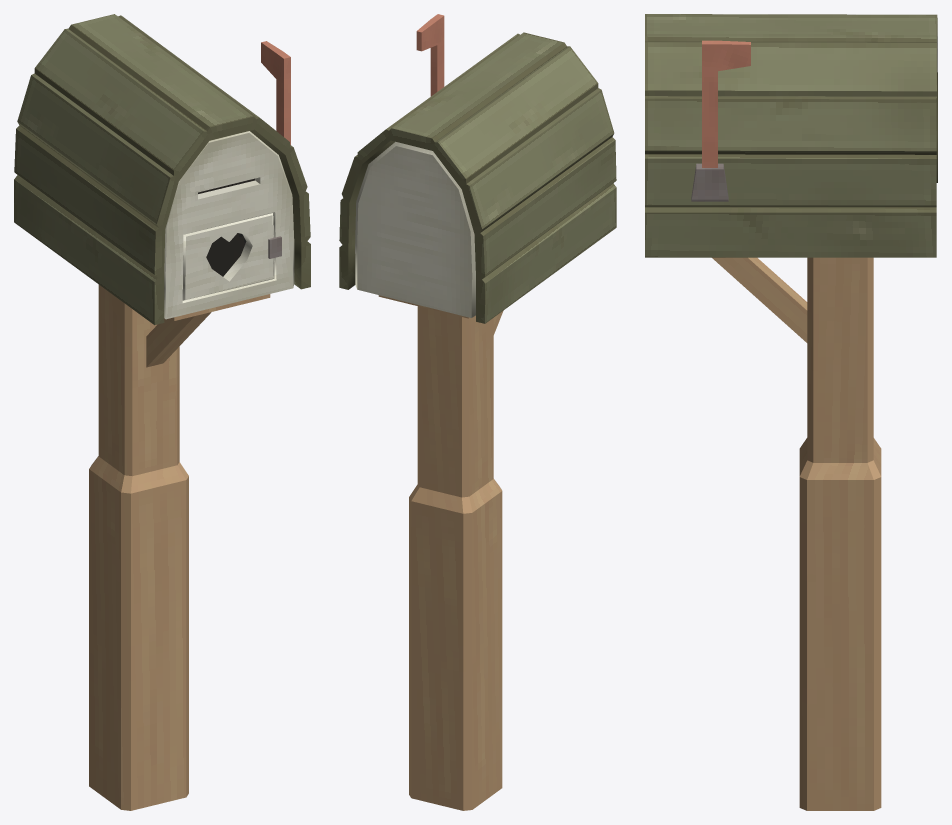
The model's file is mailBox.glb.
The picture shows the model from 3 angles, left to right: view 1: azimuth 30°, elevation 25°; view 2: azimuth 150°, elevation 25°; view 3: azimuth 270°, elevation 25°; orthographic projection. The views are drawn at different scales.
Parts seen in each view (by area): view 1: letterbox_obj_letterbox_mat_0; view 2: letterbox_obj_letterbox_mat_0; view 3: letterbox_obj_letterbox_mat_0.
Boxes of the visible parts, <box> form: letterbox_obj_letterbox_mat_0: <box>14,14,310,810</box>; letterbox_obj_letterbox_mat_0: <box>339,14,616,810</box>; letterbox_obj_letterbox_mat_0: <box>645,14,937,810</box>.
Size of the model in its own units: 0.2595 by 1.14 by 0.38.
Materials: 1 (1 with a texture image).
